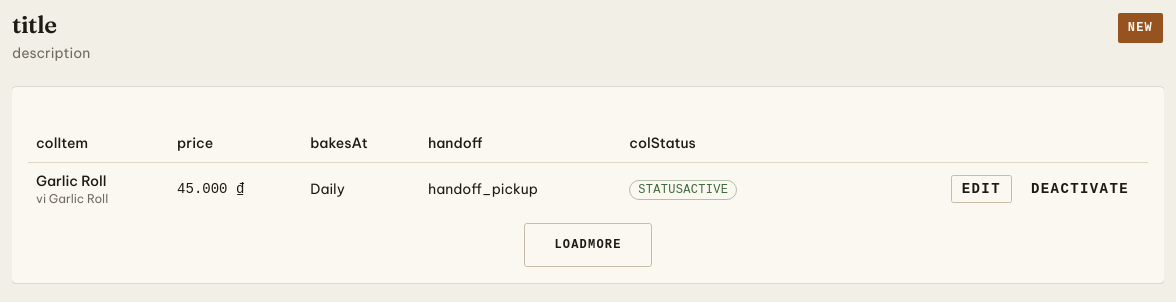
Scenario: BakeryItemsManager load more › appends the next page and hides Load more on the last page
Click the button "loadMore": [588, 245] box [524,223,652,267]
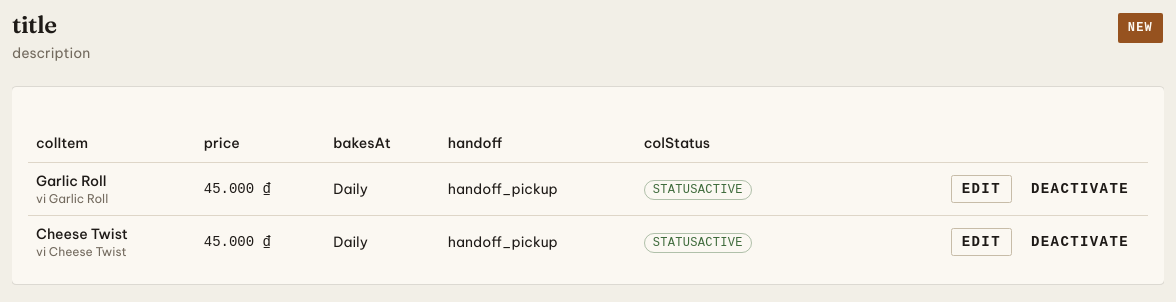
Expected: the text "Garlic Roll" is shown, [36,172,106,190]
Now the text "Cheese Twist" is shown, box [36,225,128,243]
Now the button "loadMore" is gone
